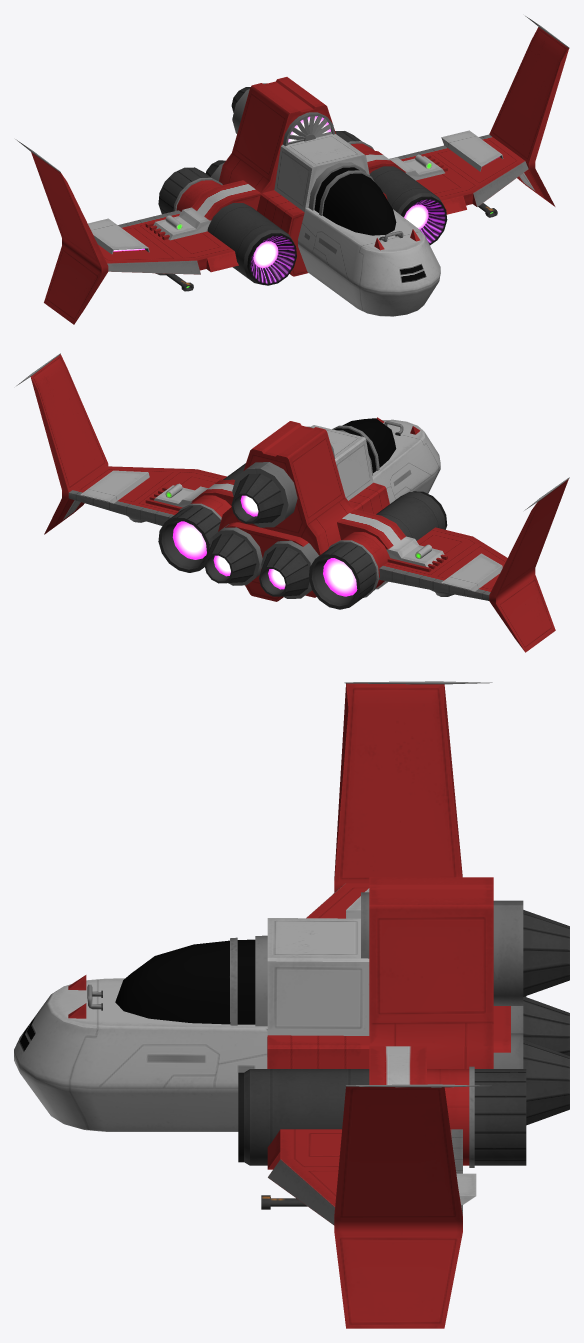
File: radiant_pillar_bc1.glb
3 views of the same model, one above another, from view 1: azimuth 30°, elevation 25°; view 2: azimuth 150°, elevation 25°; view 3: azimuth 270°, elevation 25° (orthographic). The views are drawn at different scales.
Parts seen in each view (by area): view 1: pCone2; view 2: pCone2; view 3: pCone2.
Part boxes in pixels (x1,y1,x2,y2): pCone2: (15, 16, 569, 324); pCone2: (16, 353, 569, 652); pCone2: (14, 681, 569, 1328).
Bounding box in the file's own units: 819 × 241 × 476.
1 material, 1 textured.
